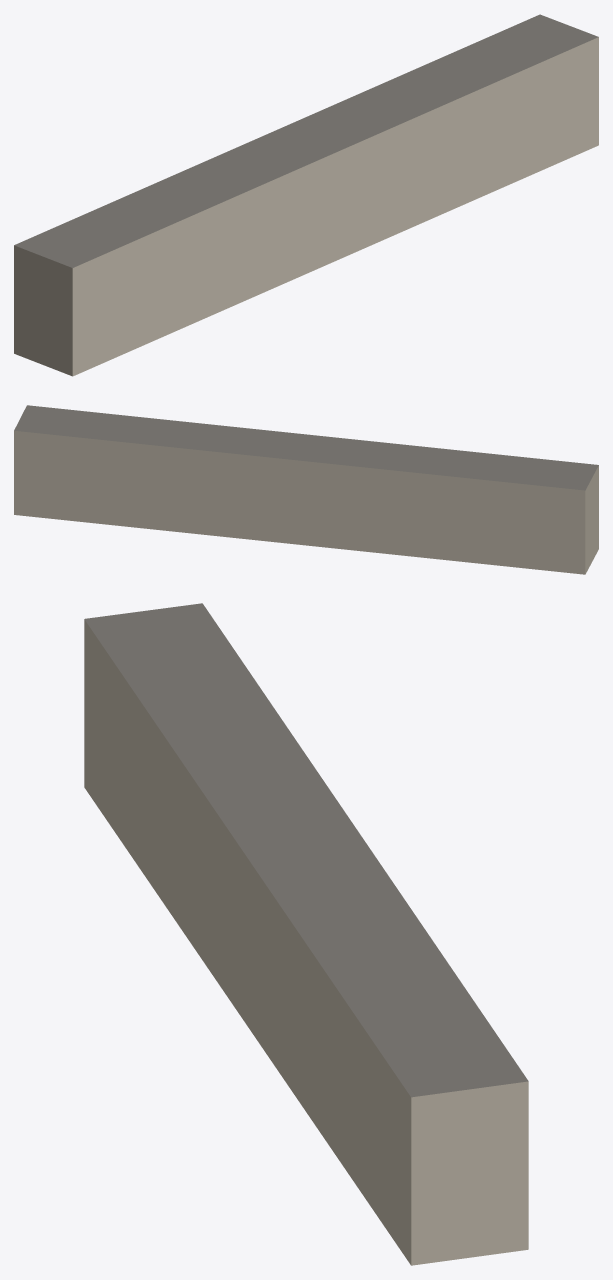
3 views of the same model, one above another, from view 1: azimuth 30°, elevation 25°; view 2: azimuth 150°, elevation 25°; view 3: azimuth 270°, elevation 25° (orthographic). The views are drawn at different scales.
Parts seen in each view (by area): view 1: HP-w757510114; view 2: HP-w757510114; view 3: HP-w757510114.
Boxes of the visible parts, x1,y1,x2,y2 form: HP-w757510114: (14,14,598,376); HP-w757510114: (14,405,598,574); HP-w757510114: (84,603,528,1265).
Size of the model in its own units: 113 by 18 by 43.09.
